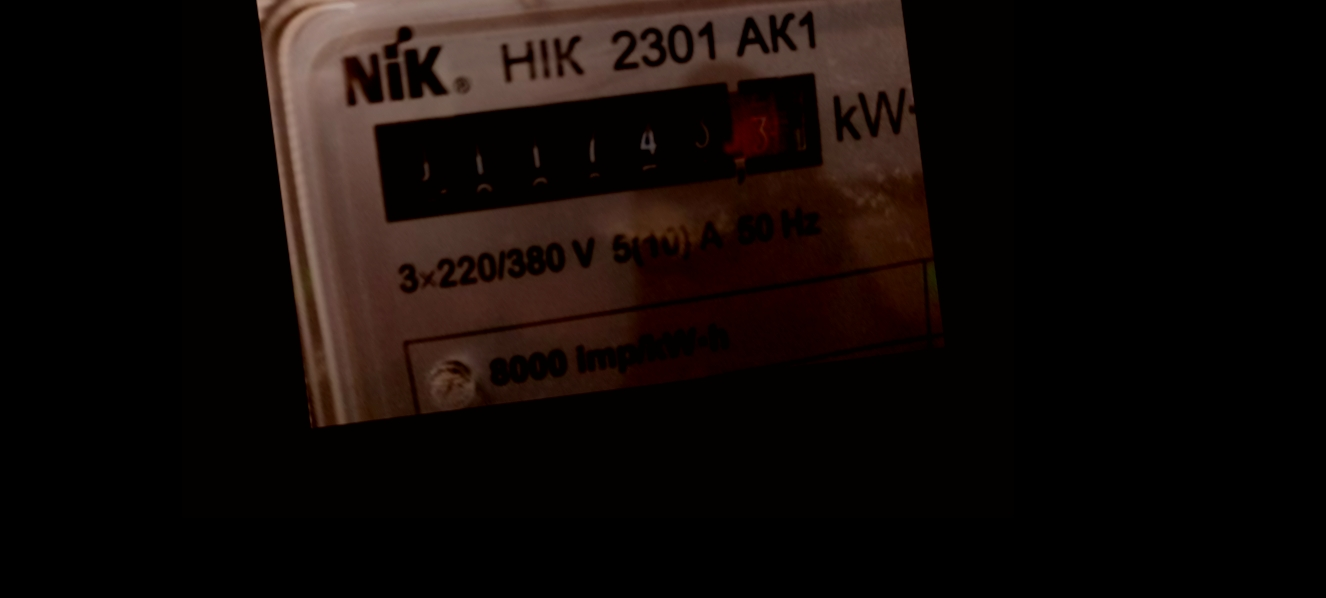0: (402, 135, 437, 185)
1: (521, 122, 548, 172), (467, 129, 489, 179)
3: (684, 102, 718, 152), (745, 109, 775, 155)
4: (630, 108, 664, 159)
7: (577, 116, 607, 167)
screen: (357, 57, 834, 233)
